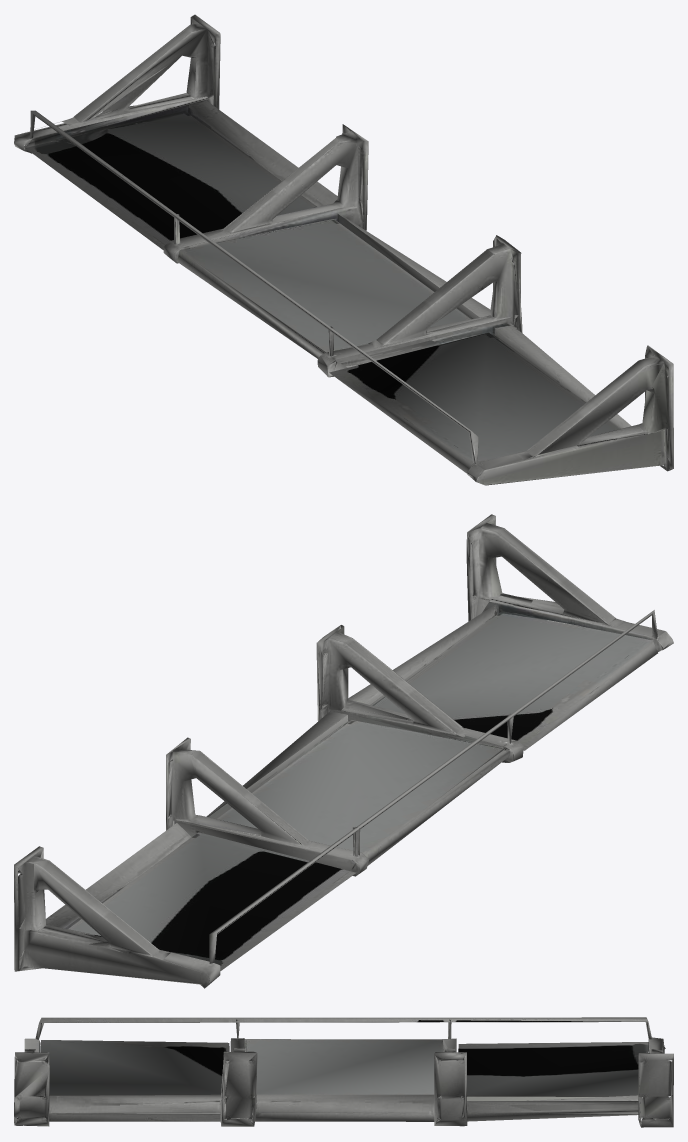
The model's file is hylly.glb.
3 renders of one model, top to bottom at view 1: azimuth 30°, elevation 25°; view 2: azimuth 150°, elevation 25°; view 3: azimuth 270°, elevation 25°, orthographic. The views are drawn at different scales.
Visible parts, largest first — view 1: hylly; view 2: hylly; view 3: hylly.
Boxes of the visible parts, x1,y1,x2,y2 form: hylly: [14, 14, 673, 485]; hylly: [14, 514, 673, 988]; hylly: [14, 1017, 673, 1127].
Size of the model in its own units: 0.4004 by 0.2182 by 1.75.
1 material, 1 textured.
